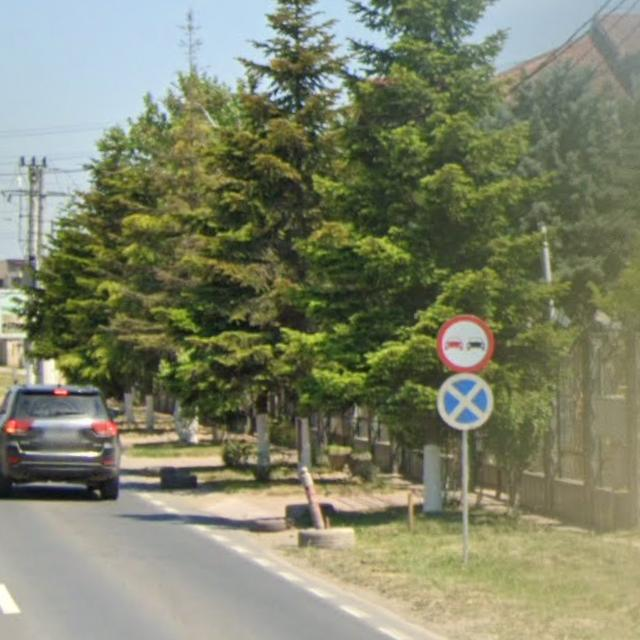forb_overtake: (437, 315, 495, 373)
forb_stopping: (436, 374, 494, 429)
